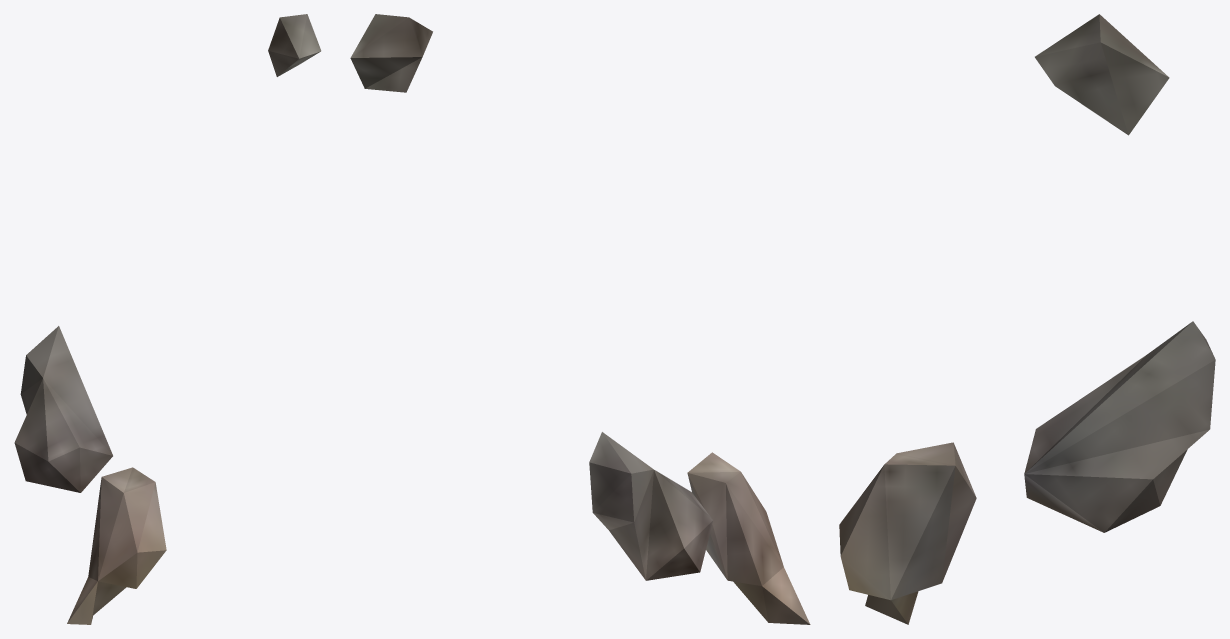
3 views of the same model, side by side, from view 1: azimuth 30°, elevation 25°; view 2: azimuth 150°, elevation 25°; view 3: azimuth 270°, elevation 25° (orthographic). The views are drawn at different scales.
Bounding box in the file's own units: 0.2088 × 0.3243 × 0.1373.
Materials: 1 (1 with a texture image).
